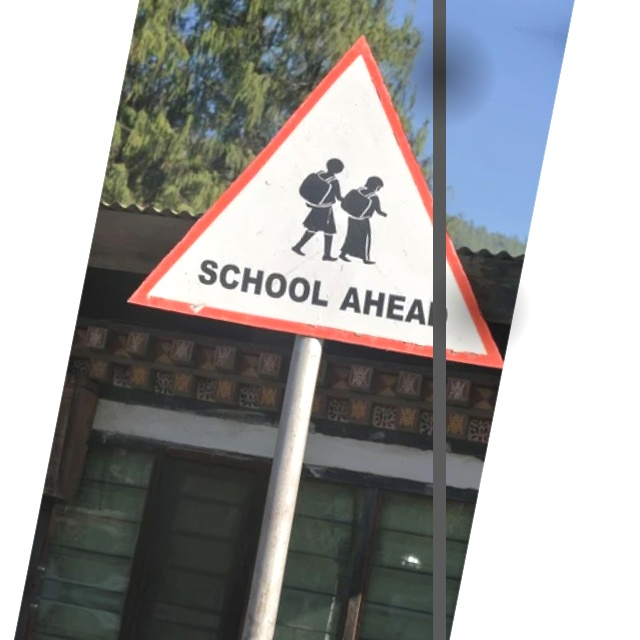School_Ahead: (152, 5, 550, 378)
